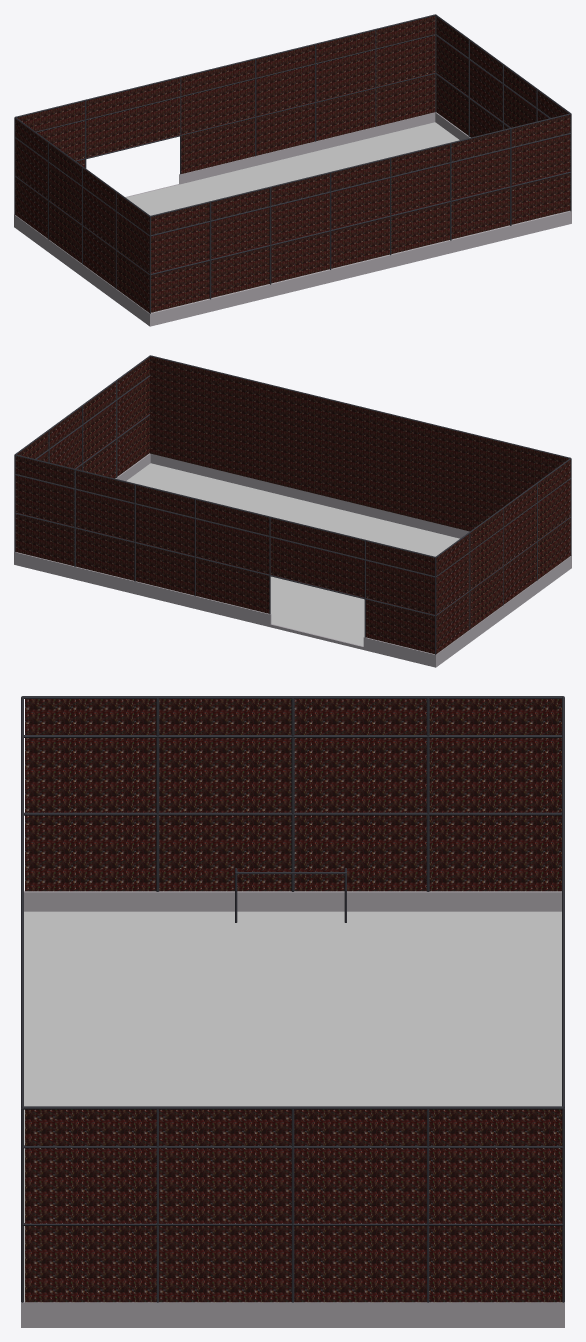
File: Halısaha.fbx
3 renders of one model, top to bottom at view 1: azimuth 30°, elevation 25°; view 2: azimuth 150°, elevation 25°; view 3: azimuth 270°, elevation 25°, orthographic. The views are drawn at different scales.
Parts seen in each view (by area): view 1: Halısaha; view 2: Halısaha; view 3: Halısaha.
Boxes of the visible parts, left/top/right/bottom form: Halısaha: left=14, top=14, right=571, bottom=326; Halısaha: left=14, top=355, right=571, bottom=667; Halısaha: left=21, top=696, right=564, bottom=1327.
Bounding box in the file's own units: 4530 × 1131 × 2530.
